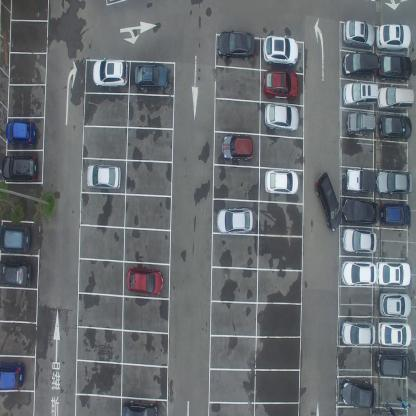car: (314, 168, 342, 230), (217, 29, 254, 62), (262, 34, 298, 67), (341, 377, 377, 410), (92, 56, 129, 88), (262, 68, 298, 100), (341, 196, 380, 225), (126, 266, 163, 296), (216, 205, 253, 235), (134, 62, 169, 92), (375, 259, 411, 288), (1, 154, 37, 182), (85, 162, 121, 190), (376, 23, 412, 51), (376, 320, 412, 348), (375, 350, 411, 378), (340, 318, 376, 346), (340, 259, 377, 286), (0, 259, 33, 289), (376, 85, 414, 111), (375, 168, 413, 194), (265, 103, 299, 132), (378, 112, 412, 141), (264, 168, 299, 196), (377, 54, 412, 82), (342, 51, 378, 78), (342, 19, 376, 47), (342, 81, 380, 106), (0, 224, 31, 254), (220, 134, 254, 161), (342, 227, 376, 254), (345, 109, 376, 137), (4, 119, 36, 146), (378, 291, 410, 318), (345, 168, 377, 193), (0, 359, 25, 391), (379, 202, 410, 227), (122, 400, 158, 416)
